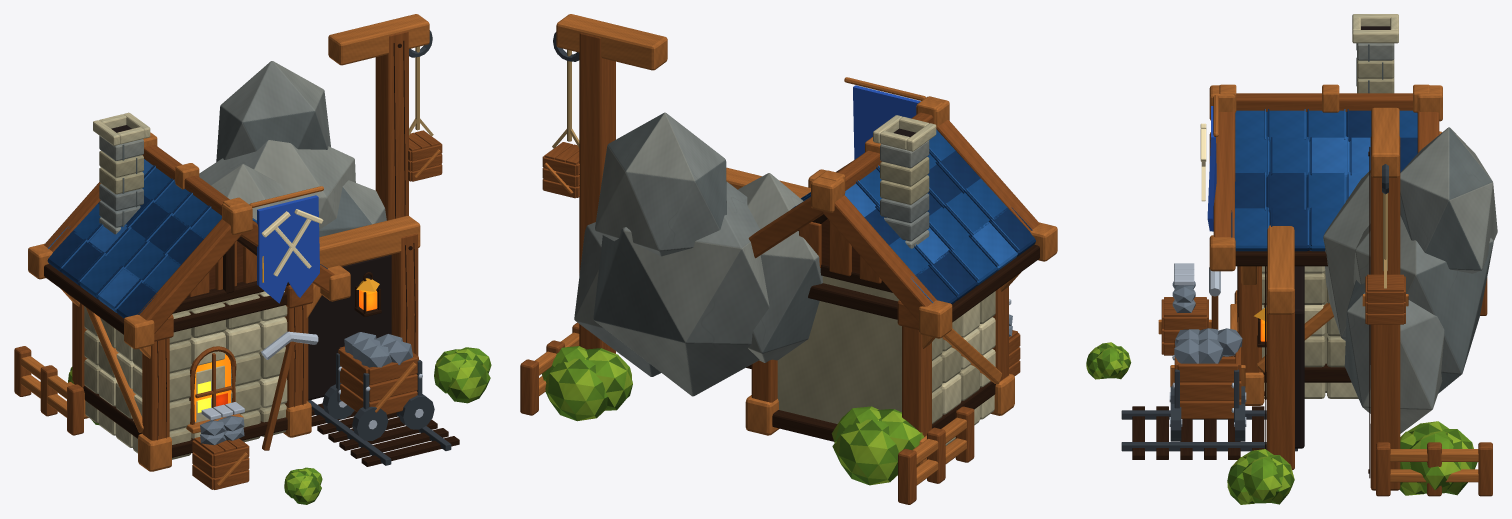
File: metal_mine.glb
3 renders of one model, left to right at view 1: azimuth 30°, elevation 25°; view 2: azimuth 150°, elevation 25°; view 3: azimuth 270°, elevation 25°, orthographic. The views are drawn at different scales.
Visible parts, largest first — view 1: Angular mine outcrop.003, Ore hoist upright, Mine tunnel darkness, Angular mine outcrop.001, Cloth heraldic banner, Carved roof verge, Mine lintel, Ore hoist arm, Mine entrance timber.001, Corner upright, Angular mine outcrop.002, Angular mine outcrop (+70 smaller); view 2: Angular mine outcrop.001, Angular mine outcrop.003, Cottage walls, Angular mine outcrop, Ore hoist upright, Carved roof verge.001, Ore hoist arm, Leaf cluster.007, Leaf cluster.011, Corner upright.001, Angular mine outcrop.002, Cloth heraldic banner (+44 smaller); view 3: Angular mine outcrop.003, Angular mine outcrop.001, Angular mine outcrop.002, Ore hoist upright, Mine entrance timber.001, Angular mine outcrop, Ridge timber, Carved roof verge.002, Mine lintel, Ore hoist arm, Corner upright.002, Mine tunnel darkness (+59 smaller).
Boxes of the visible parts, <box> form: Angular mine outcrop.003: <box>216,61,330,161</box>; Ore hoist upright: <box>375,31,408,220</box>; Mine tunnel darkness: <box>308,254,391,400</box>; Angular mine outcrop.001: <box>199,140,355,229</box>; Cloth heraldic banner: <box>257,195,319,303</box>; Carved roof verge: <box>138,219,241,333</box>; Mine lintel: <box>319,216,420,267</box>; Ore hoist arm: <box>328,14,429,65</box>; Mine entrance timber.001: <box>391,233,418,355</box>; Corner upright: <box>142,338,169,440</box>; Angular mine outcrop.002: <box>319,180,386,236</box>; Angular mine outcrop: <box>211,164,290,220</box>; Angular mine outcrop.001: <box>593,182,769,396</box>; Angular mine outcrop.003: <box>595,112,726,256</box>; Cottage walls: <box>777,276,901,423</box>; Angular mine outcrop: <box>738,173,822,362</box>; Ore hoist upright: <box>579,32,615,353</box>; Carved roof verge.001: <box>822,195,936,321</box>; Ore hoist arm: <box>556,14,667,70</box>; Leaf cluster.007: <box>832,419,898,485</box>; Leaf cluster.011: <box>545,358,607,421</box>; Corner upright.001: <box>902,326,931,436</box>; Angular mine outcrop.002: <box>574,222,661,376</box>; Cloth heraldic banner: <box>853,85,920,159</box>; Angular mine outcrop.003: <box>1400,127,1497,273</box>; Angular mine outcrop.001: <box>1353,215,1493,393</box>; Angular mine outcrop.002: <box>1344,280,1444,433</box>; Ore hoist upright: <box>1370,136,1400,490</box>; Mine entrance timber.001: <box>1266,289,1294,469</box>; Angular mine outcrop: <box>1323,170,1370,340</box>; Ridge timber: <box>1236,93,1412,111</box>; Carved roof verge.002: <box>1213,111,1235,237</box>; Mine lintel: <box>1267,225,1294,314</box>; Ore hoist arm: <box>1371,107,1399,177</box>; Corner upright.002: <box>1238,266,1261,372</box>; Mine tunnel darkness: <box>1294,266,1304,448</box>.
Bounding box in the file's own units: 4.18 × 3.53 × 3.62.
35 materials, 26 textured.
